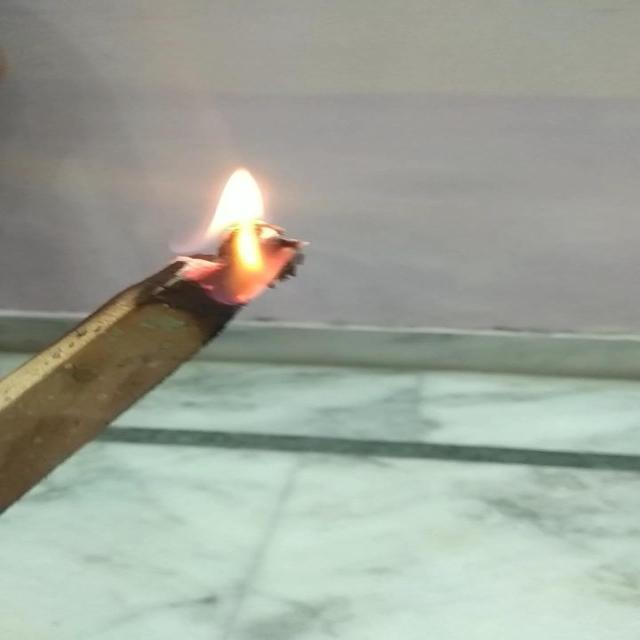smoke: (170, 157, 314, 310)
